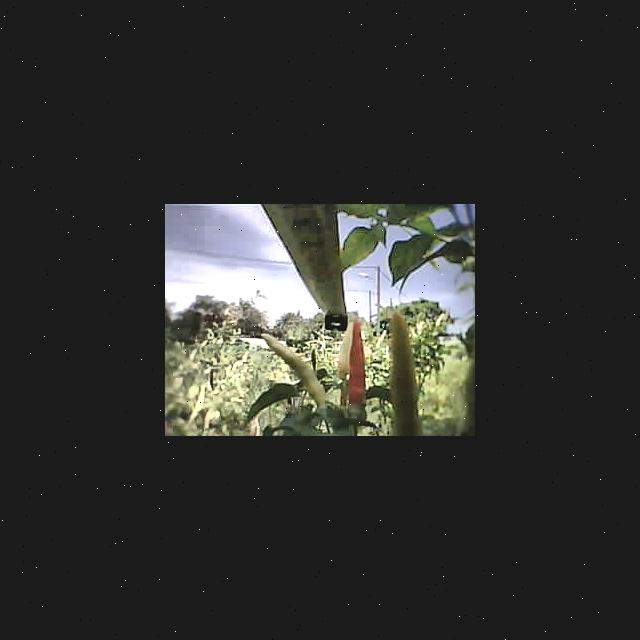Cabai: (347, 322, 371, 412)
